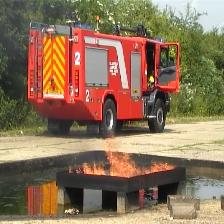fire: (69, 130, 175, 178)
